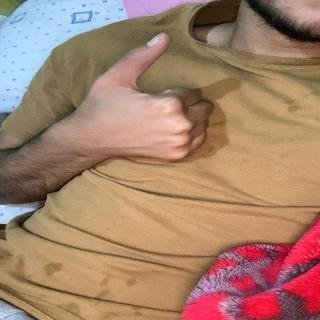ALIF: (48, 29, 226, 182)
